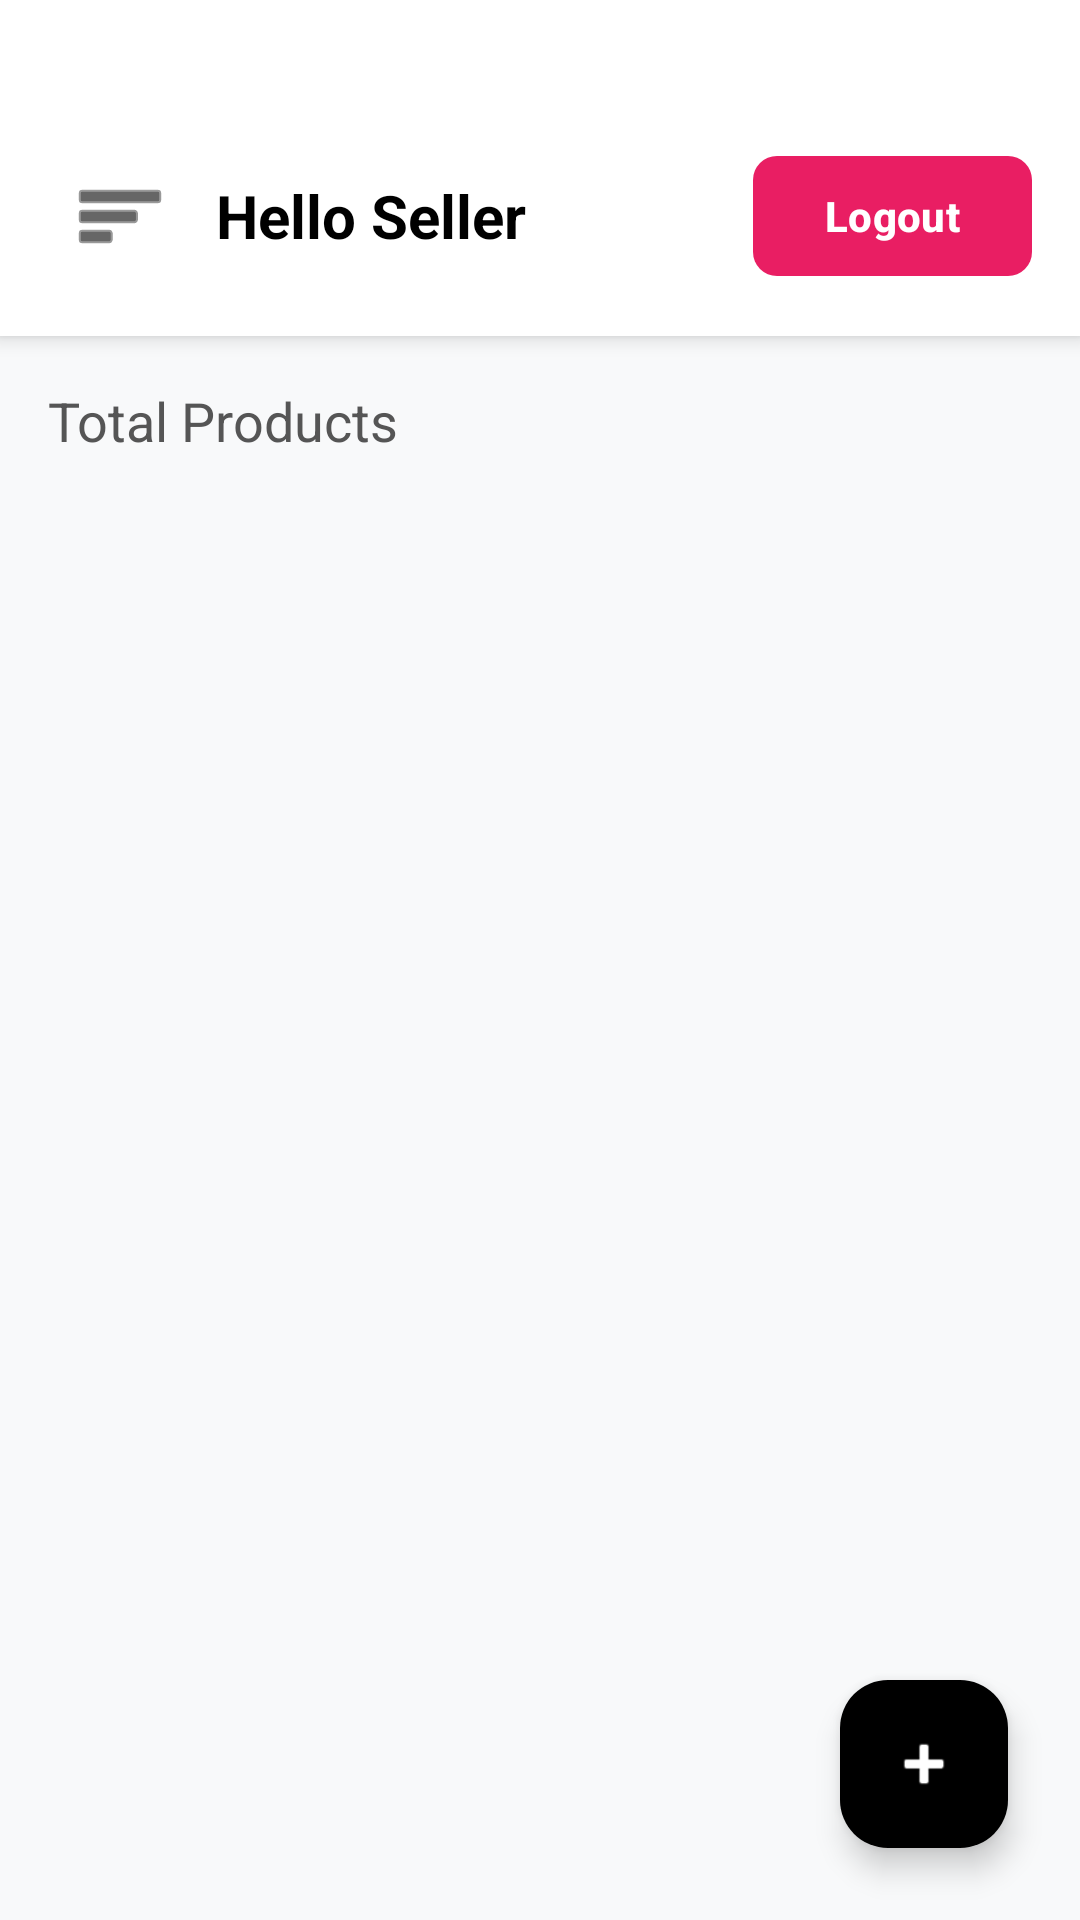

Named icons in this screenshot (1080px x 1920px) and their bounding boxes, region(x1, y1, x2, y2):
add: region(840, 1680, 1008, 1848)
sort by size: region(79, 190, 161, 243)
